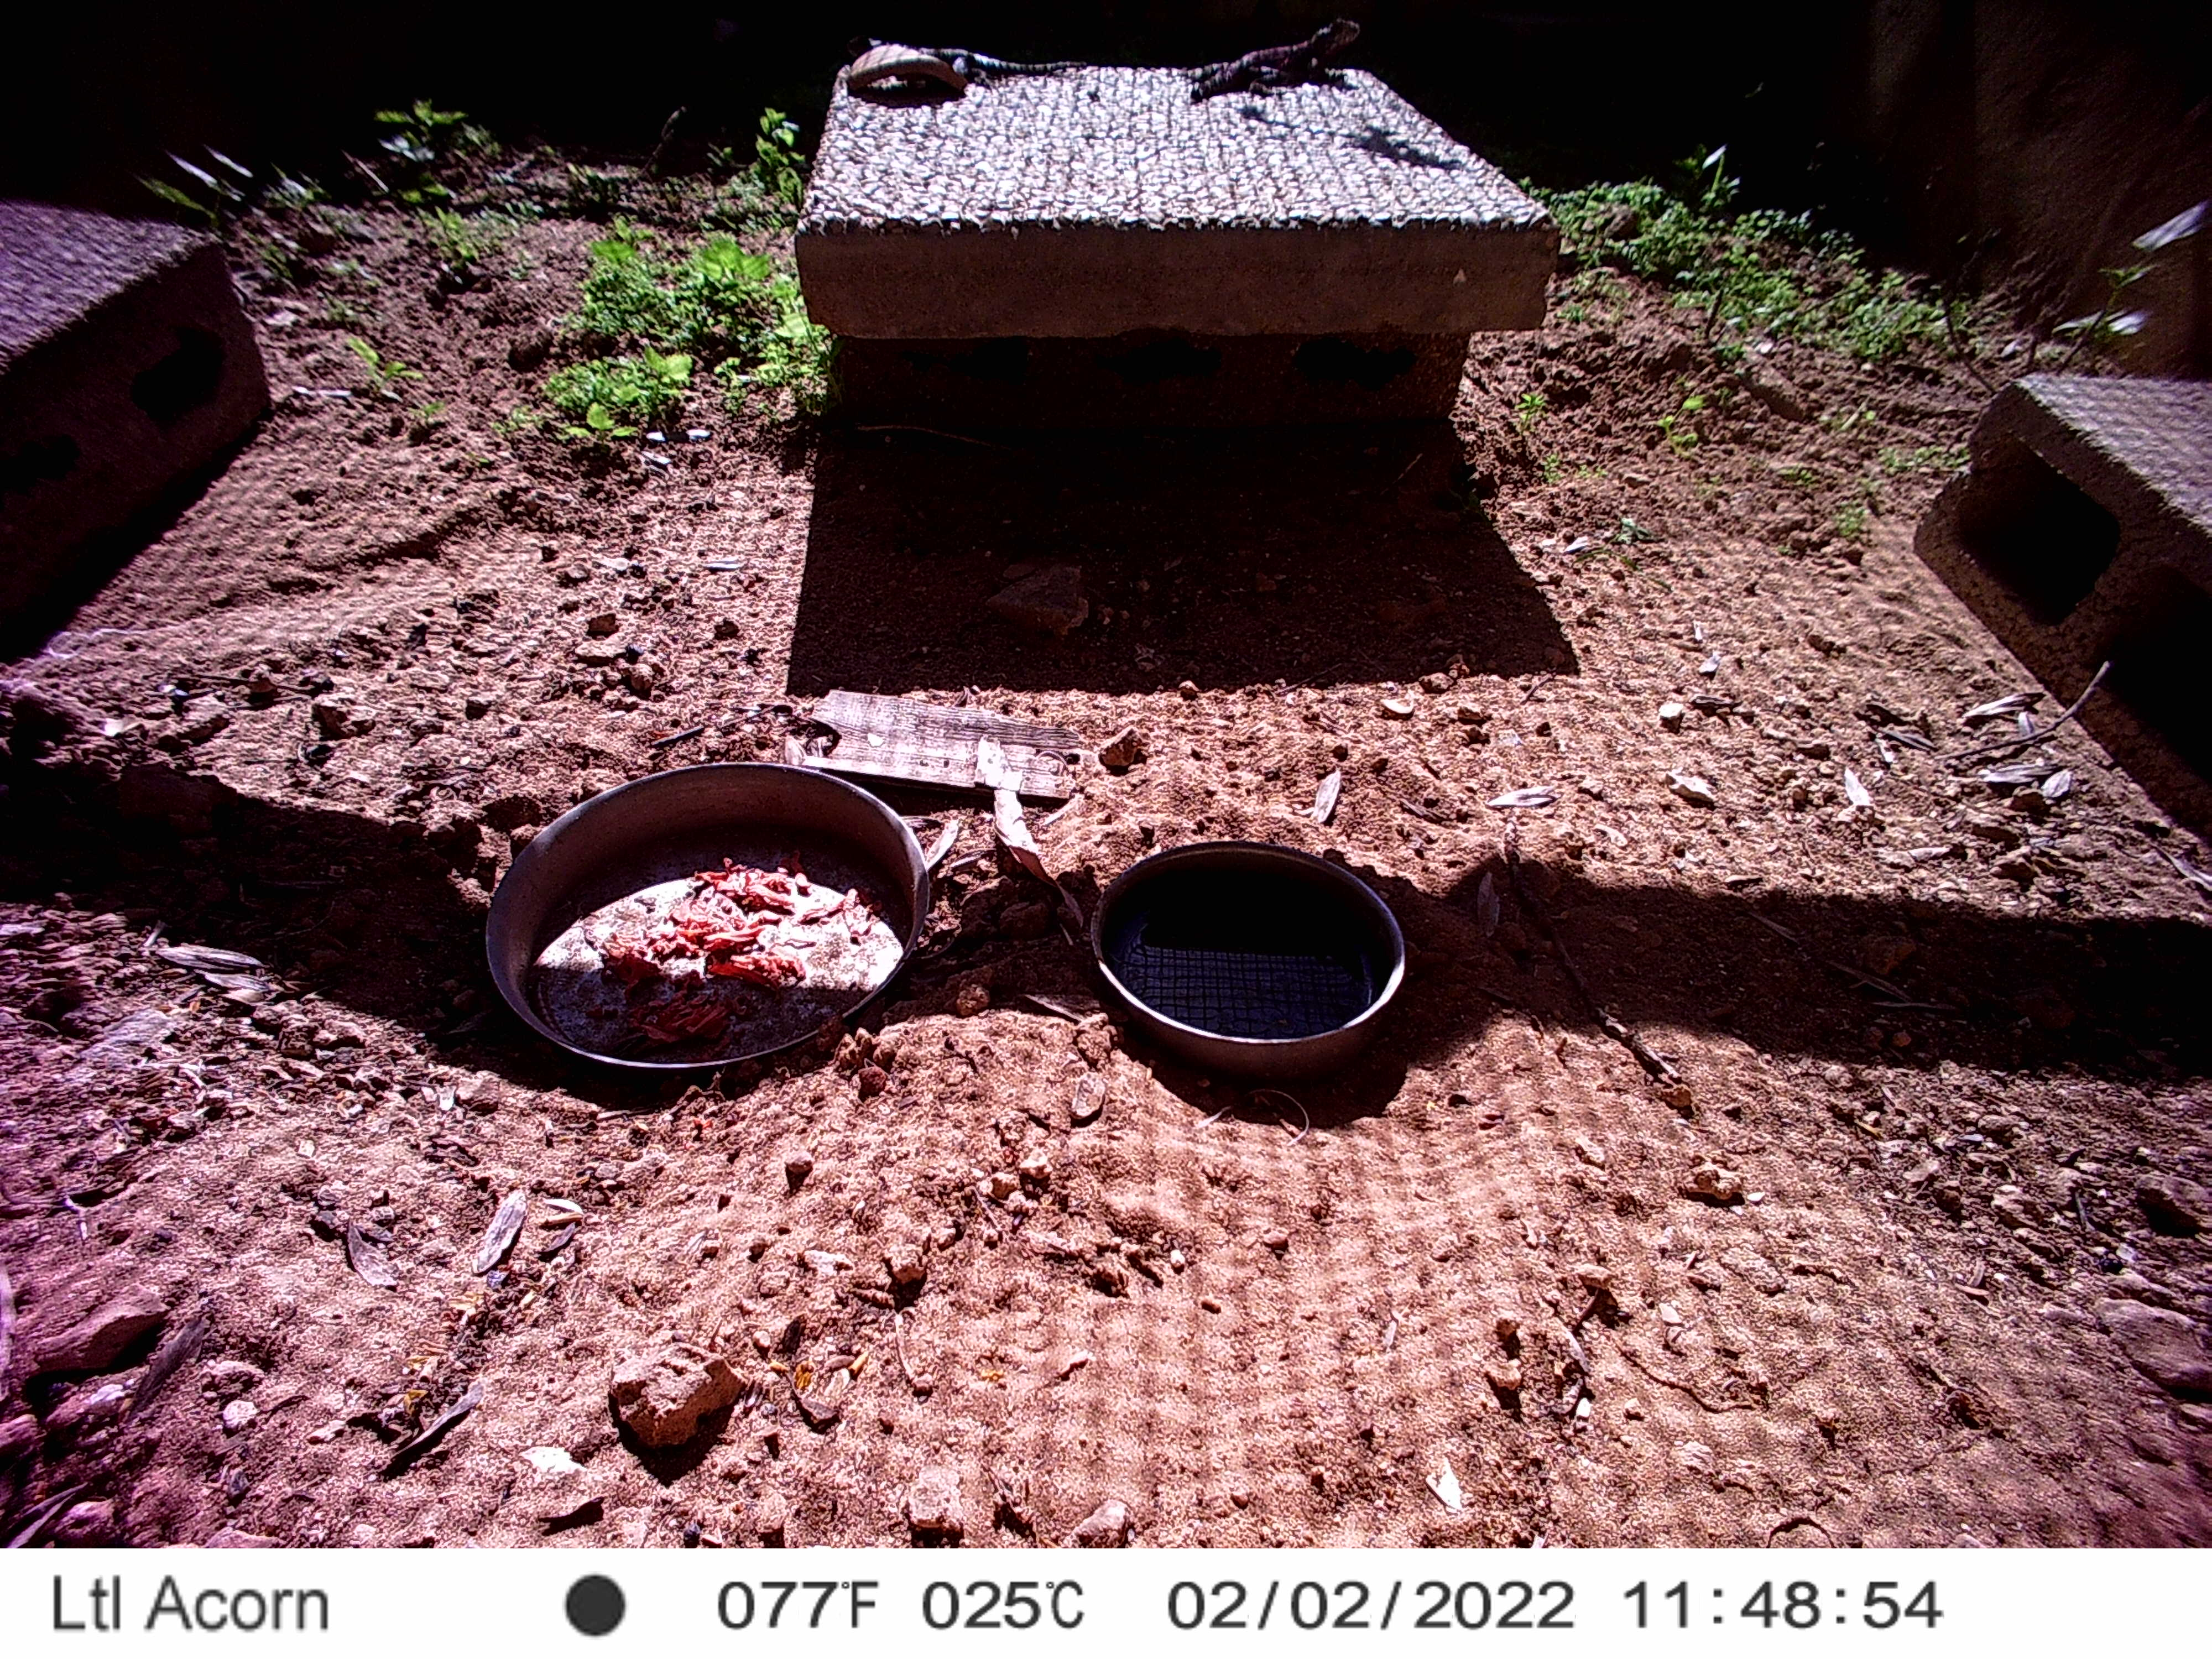lizard: (1158, 12, 1372, 115), (866, 30, 1082, 92)
